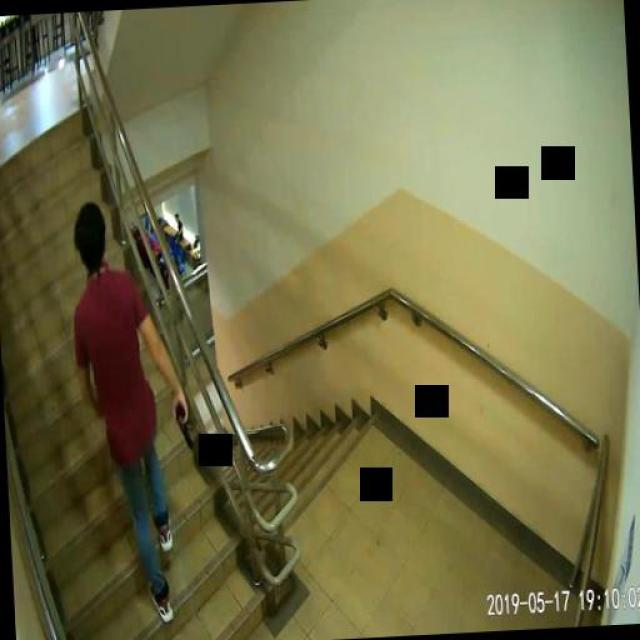gun: (170, 401, 191, 450)
